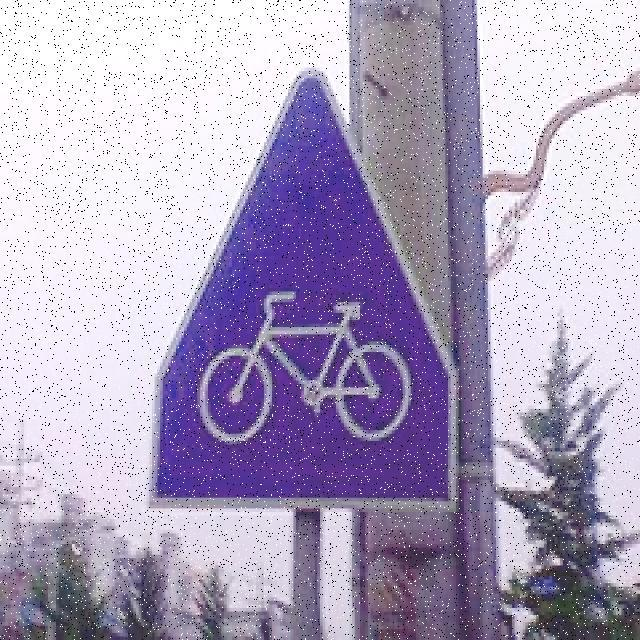Traffic sign: (140, 65, 469, 521)
